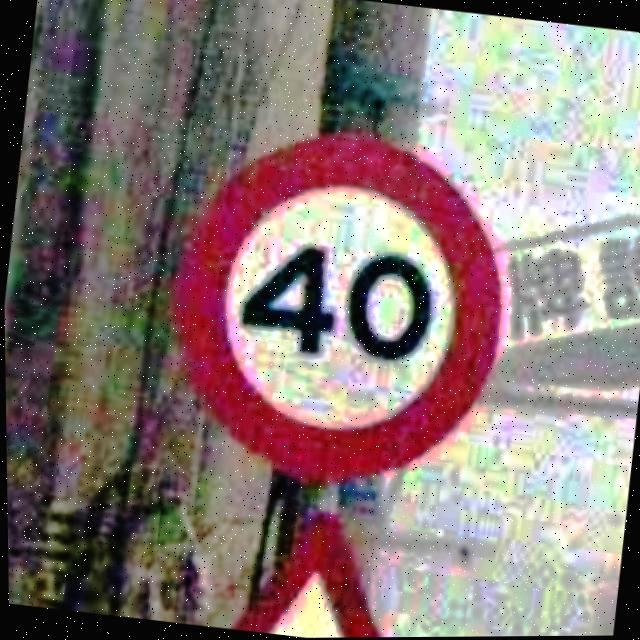max40: (145, 107, 528, 504)
